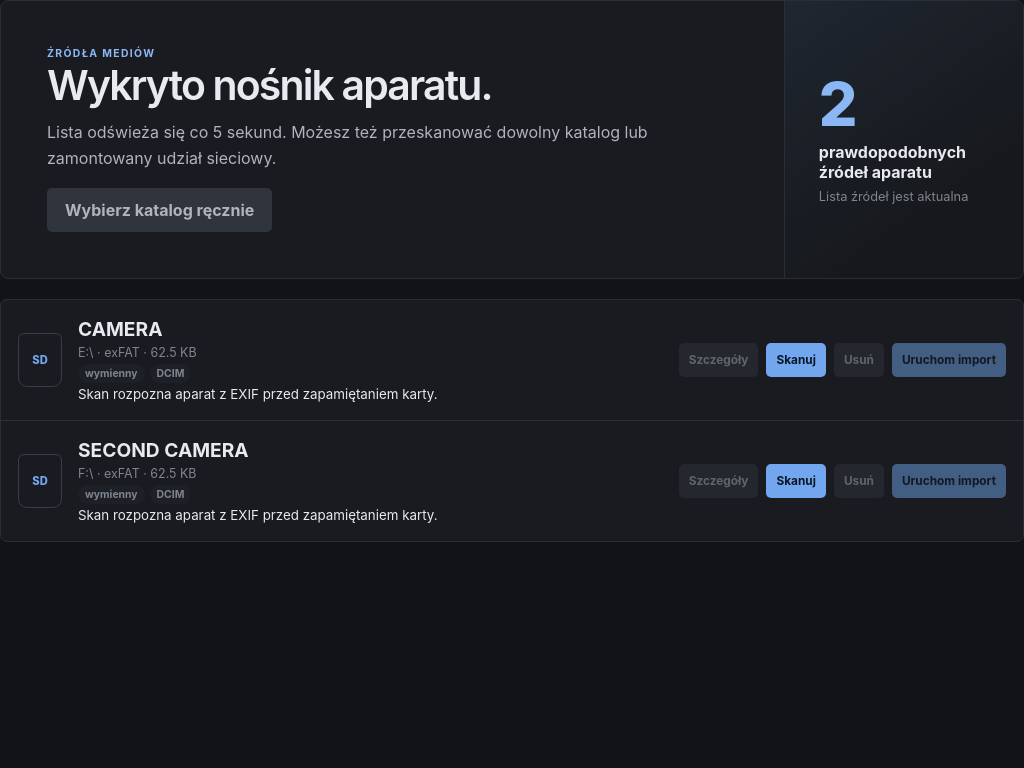
Test case: SourceScanner › does not let another source scan replace the manually opened scan
Check: the element "CAMERA" is shown, box [1,300,1023,420]
Step 1. Click the button "Skanuj" in the row of "E:\\" → (796, 360), box [766,342,826,376]
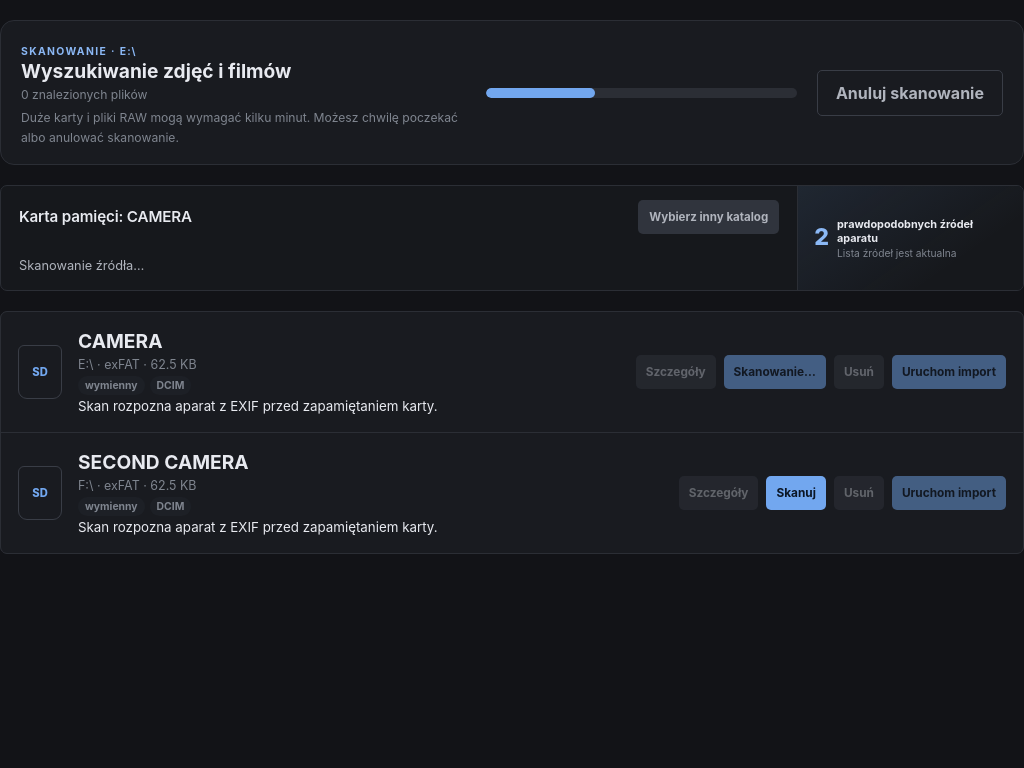
Check: the element named "Skan E:\\" is shown, box [0,20,1023,165]
Check: the button "Skanowanie…" is disabled, box [724,355,826,389]
